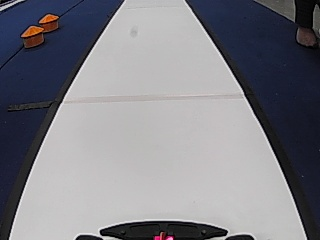granary: (19, 23, 44, 48), (39, 13, 59, 32)
